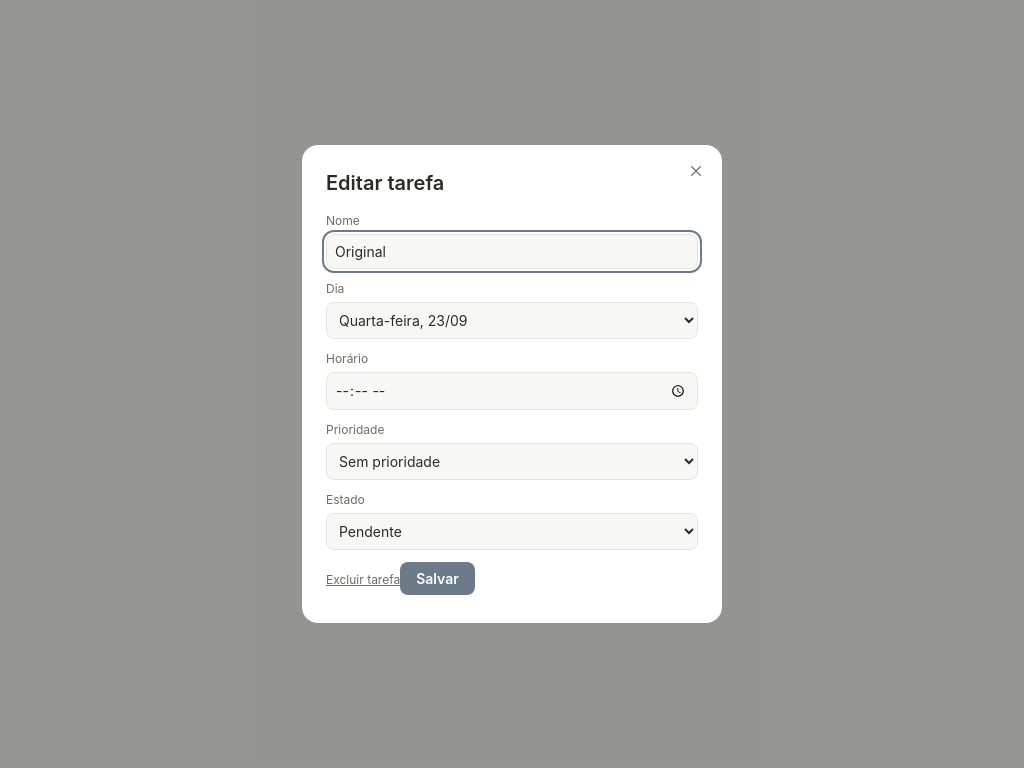
Test: TaskModal — modo edição (Story 2.2) › tarefa removida em outra sessão: mensagem distinta, sem convidar a um retry inútil
Step 1. Click the button "Salvar" → coordinates (438, 578), box [400,562,475,595]
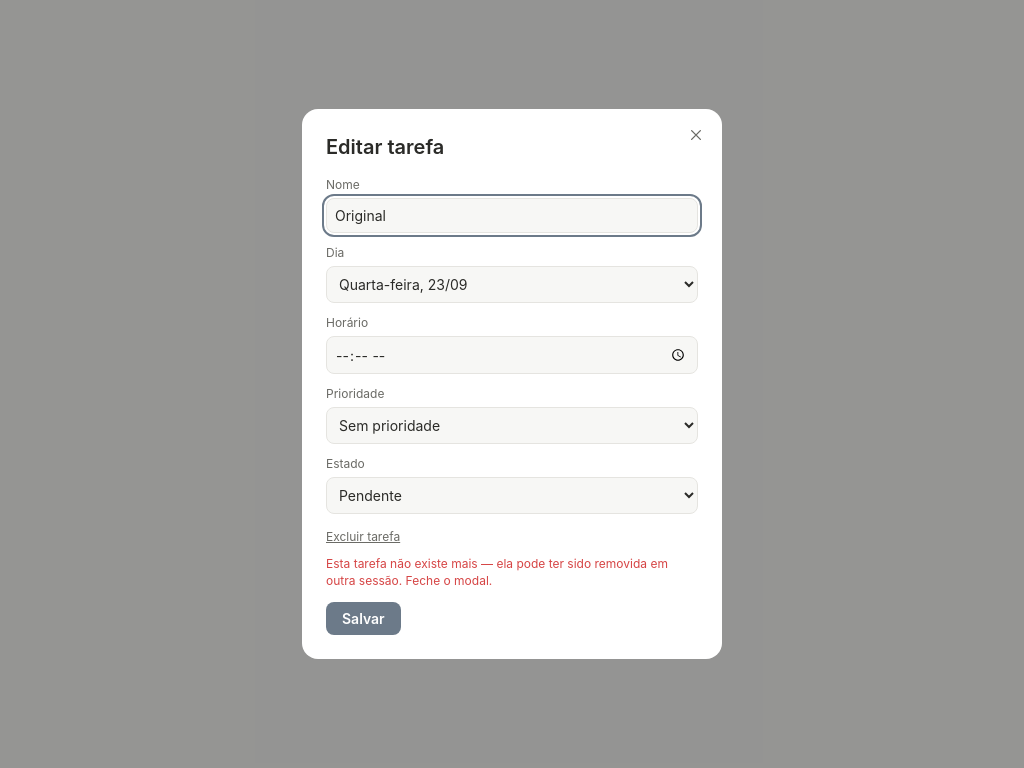
Result: the text "Esta tarefa não existe mais — ela pode ter sido removida em outra sessão. Feche o modal." is shown at [326,556,668,588]
